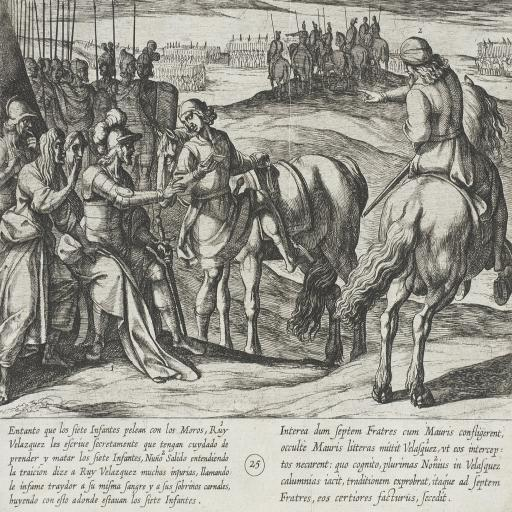Horse: (331, 74, 508, 408), (154, 126, 368, 362), (264, 30, 391, 105)
